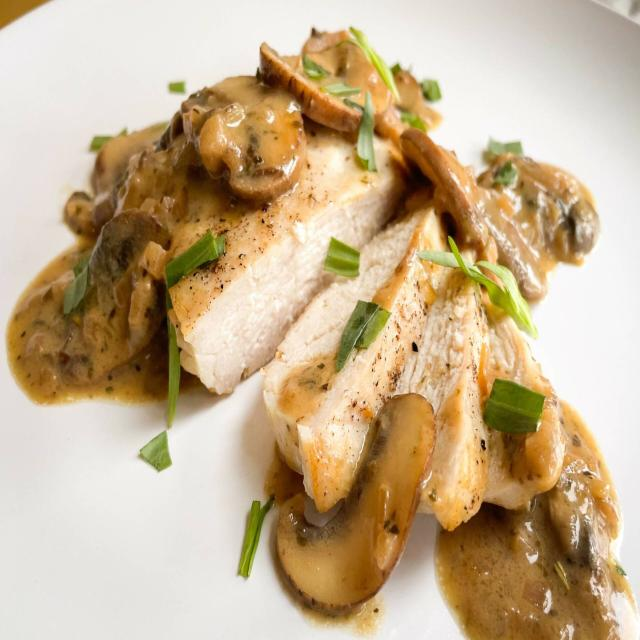pollo: (78, 51, 627, 575)
